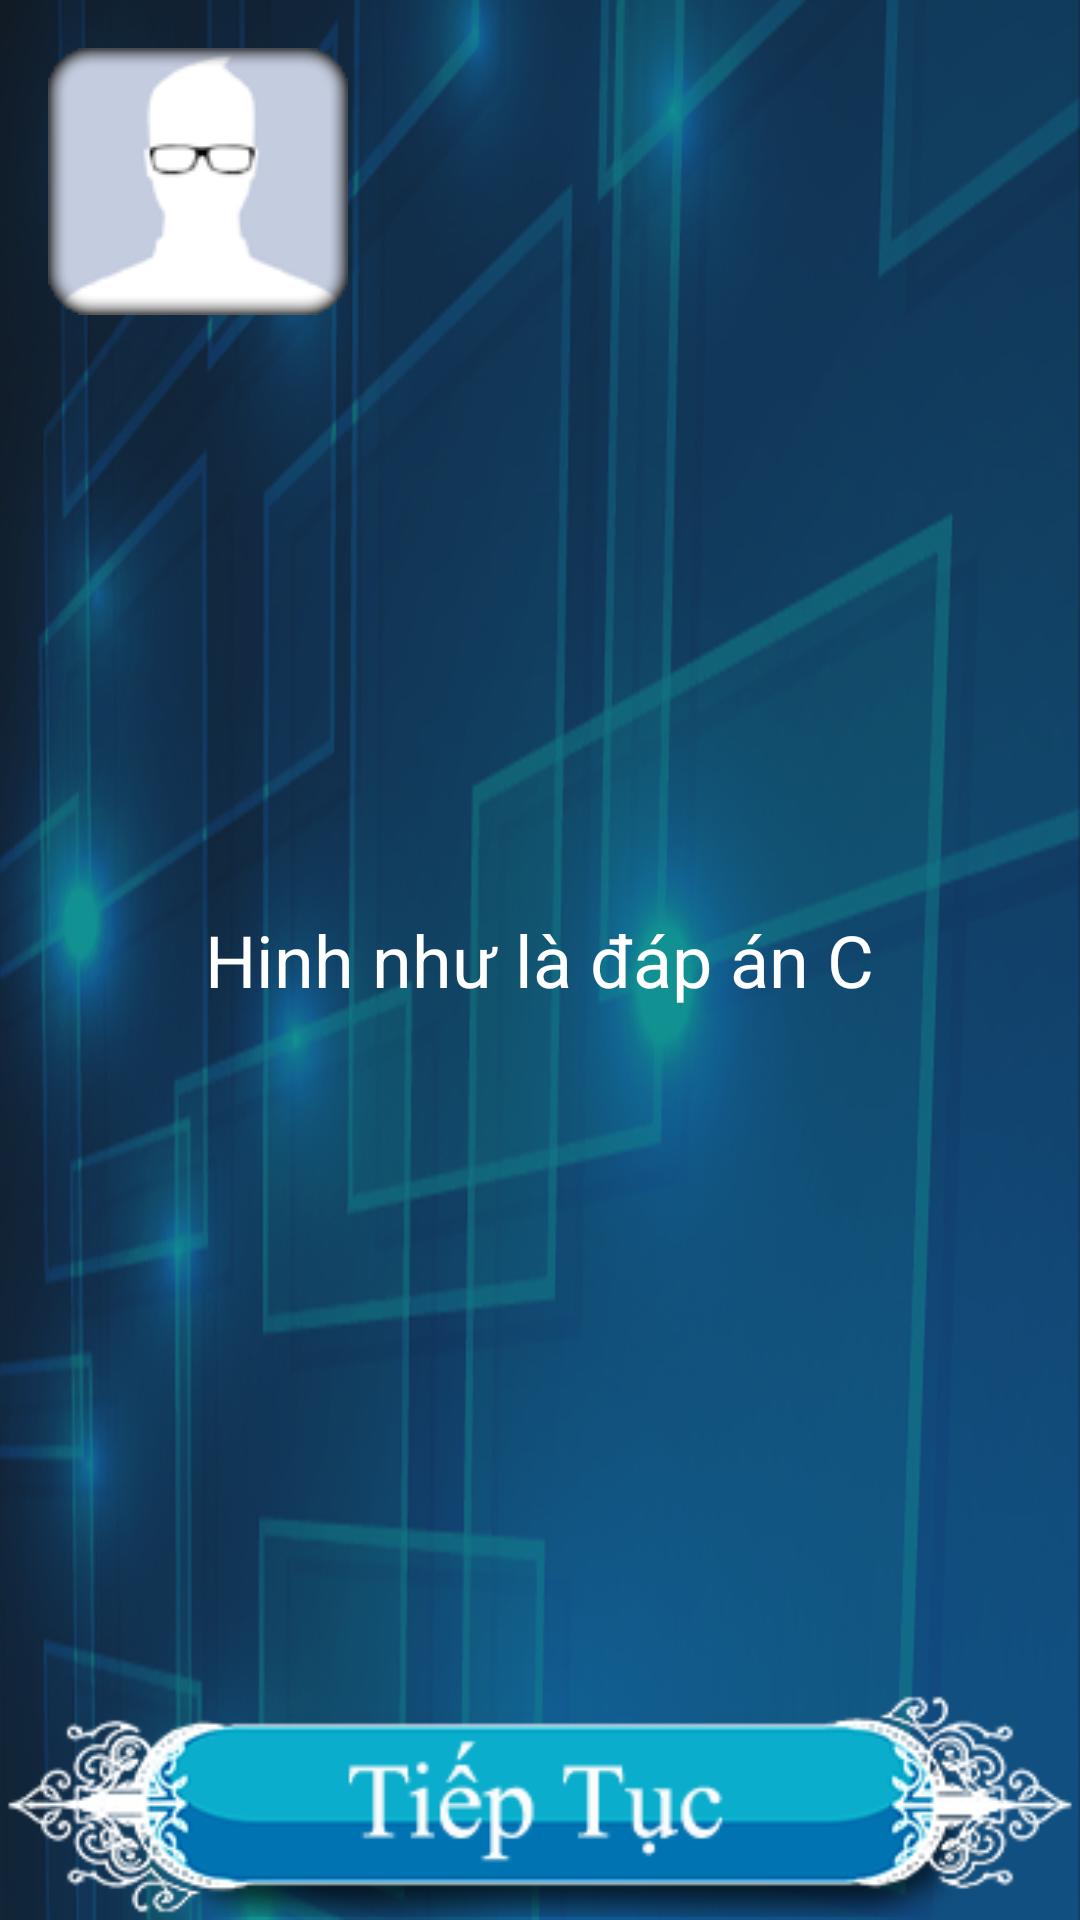

Locate icon controls on the screen. Image size 1080px×1920px, boxes as [x1,y1,x2,y2].
avata: [48,48,348,315]
